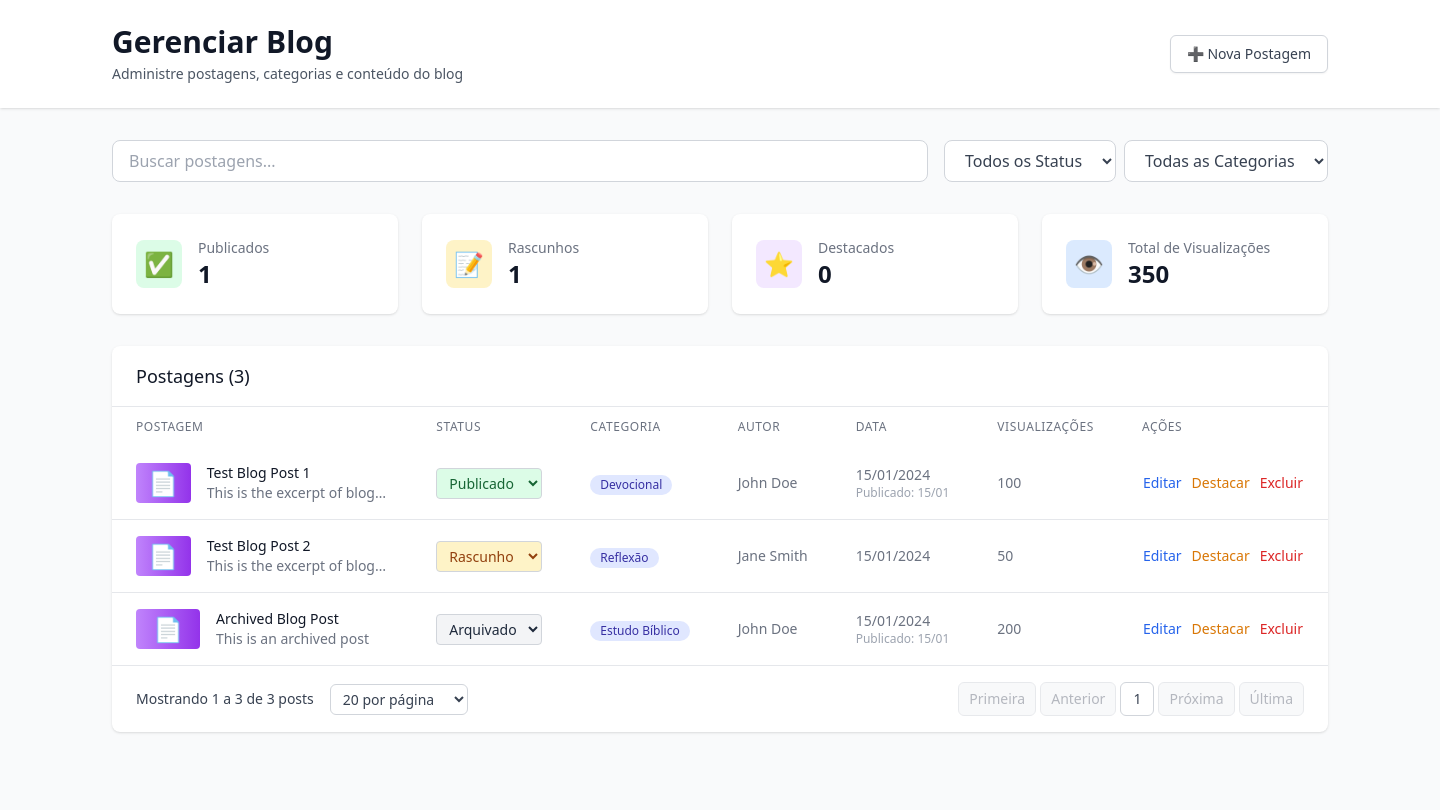
Test: AdminBlogManagementPage › CRUD Operations › Edit Post › should open edit modal when clicking edit button
Check: the text "Test Blog Post 1" is shown, box x1=207 y1=463 x2=311 y2=483
Click the button "Editar" in the row of "Test Blog Post 1" at [1162, 483], box x1=1142 y1=472 x2=1183 y2=494
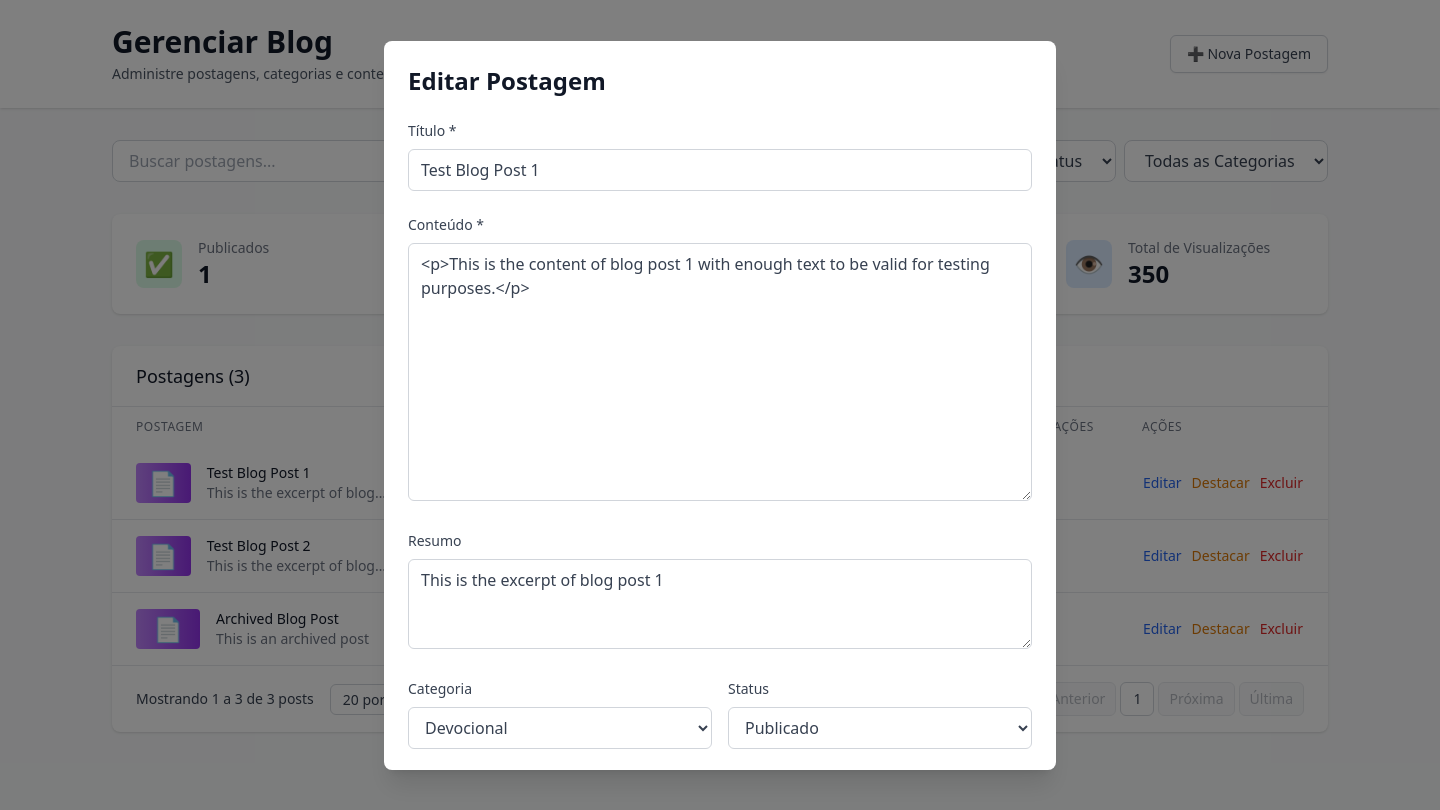
Check: the heading "Editar Postagem" is shown, box x1=408 y1=64 x2=606 y2=96
